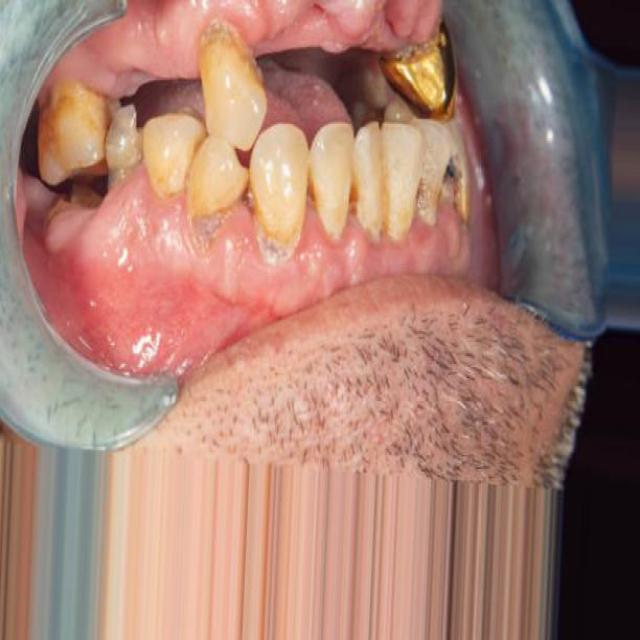caries: (430, 148, 473, 227), (183, 197, 235, 257), (102, 101, 141, 175)
